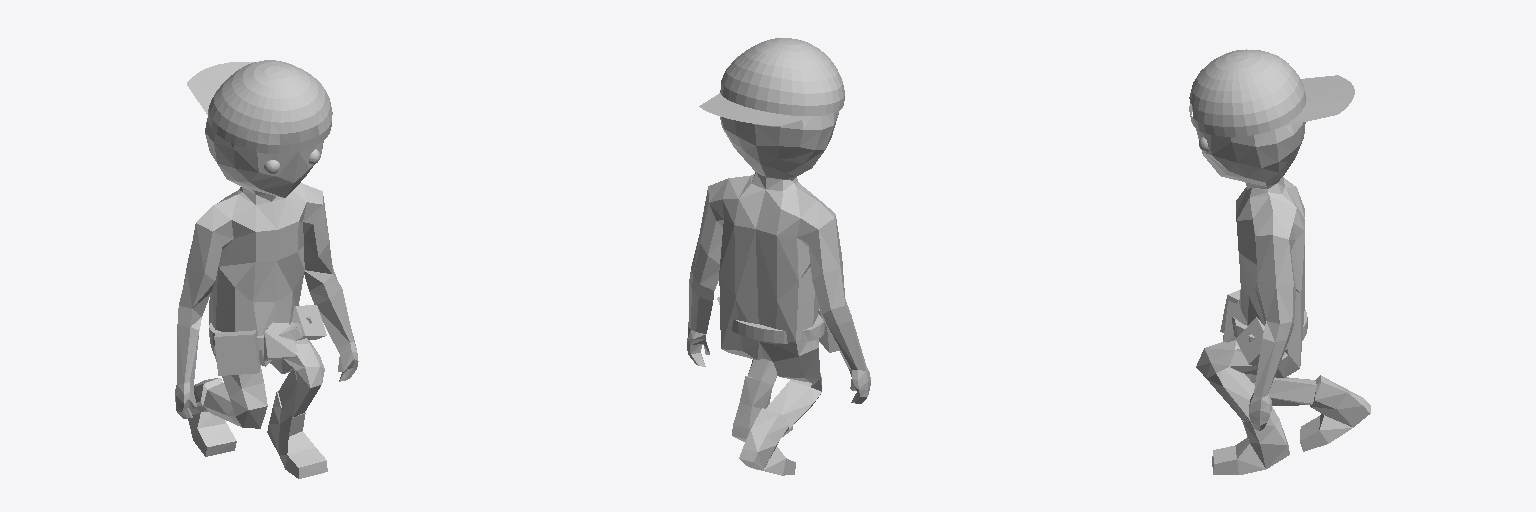
File: Main_Character_TireRepair_23.obj
3 views of the same model, side by side, from view 1: azimuth 30°, elevation 25°; view 2: azimuth 150°, elevation 25°; view 3: azimuth 270°, elevation 25° (orthographic).
Parts seen in each view (by area): view 1: Main_Character_Test.003_Main_Character_Test.004; view 2: Main_Character_Test.003_Main_Character_Test.004; view 3: Main_Character_Test.003_Main_Character_Test.004.
Boxes of the visible parts, x1=… form: Main_Character_Test.003_Main_Character_Test.004: x1=175, y1=60, x2=358, y2=478; Main_Character_Test.003_Main_Character_Test.004: x1=687, y1=38, x2=870, y2=475; Main_Character_Test.003_Main_Character_Test.004: x1=1189, y1=49, x2=1370, y2=474.
Bounding box in the file's own units: 1.63 × 3.47 × 1.43.